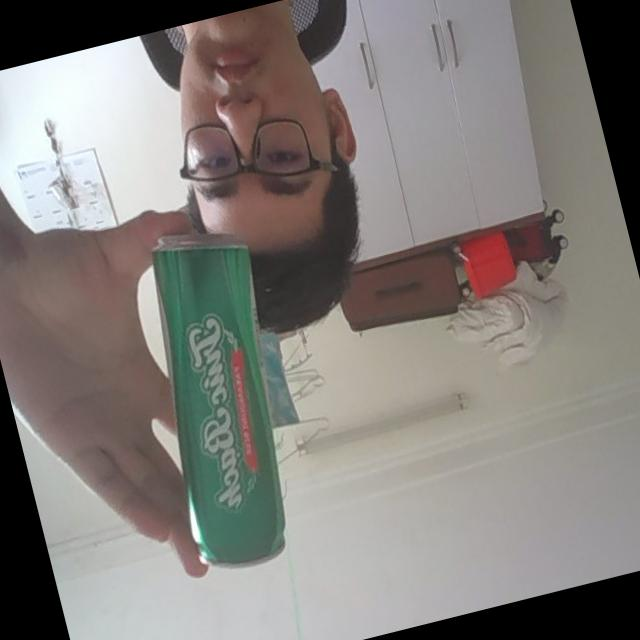Bia-Truc-Bach: (121, 220, 325, 580)
